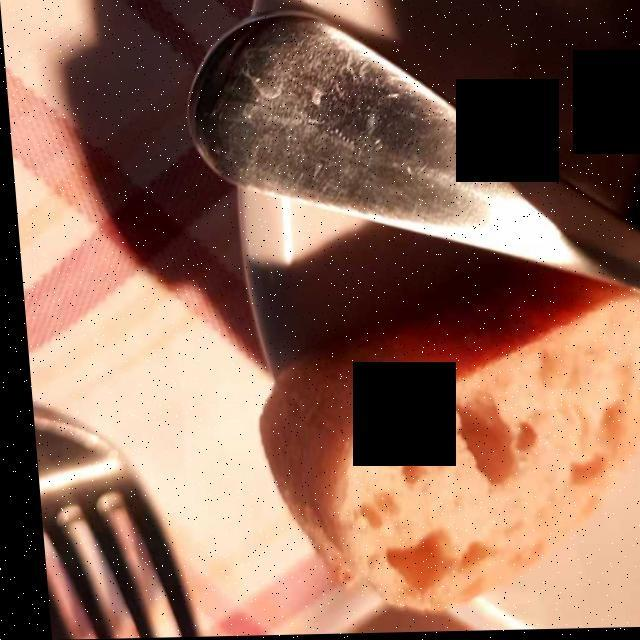bread: (263, 243, 640, 598)
